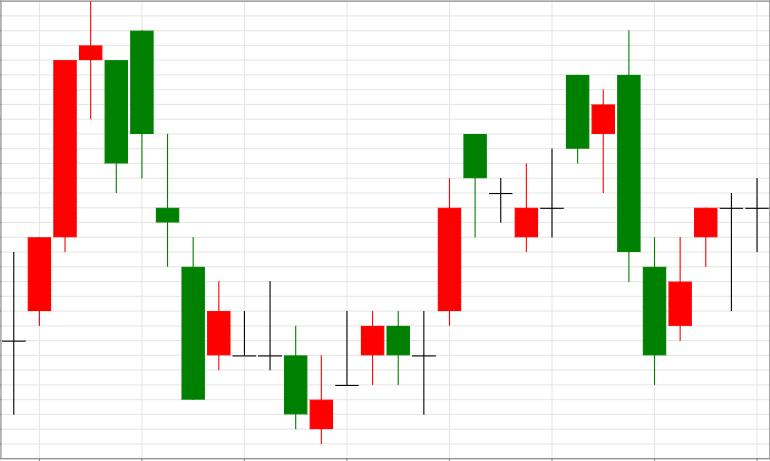evening_star_fall: (0, 2, 128, 415)
inverse_hammer_rise: (130, 31, 333, 443)
